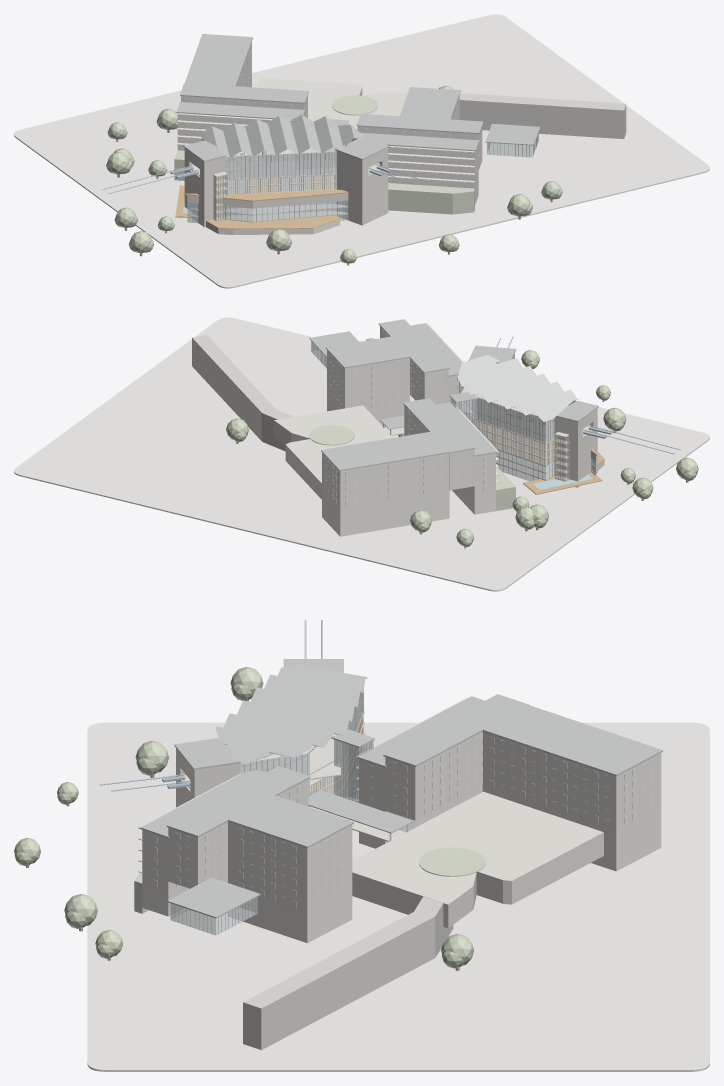
3 views of the same model, one above another, from view 1: azimuth 30°, elevation 25°; view 2: azimuth 150°, elevation 25°; view 3: azimuth 270°, elevation 25° (orthographic). The views are drawn at different scales.
Visible parts, largest first — view 1: SITE|基地底板|7, RF|金屬屋面|14, B2|清水混凝土|10, SITE|道路鋪面|4, SITE|樹冠|6, SITE|草地|3, 2F|石材鋪面|12, 4F|玻璃|9, 1F|清水混凝土|10, 2F|玻璃|9, SITE|木構|1, 4F|清水混凝土|10 (+26 smaller); view 2: SITE|基地底板|7, RF|金屬屋面|14, B2|米白塗裝|0, SITE|道路鋪面|4, SITE|樹冠|6, B2|清水混凝土|10, 2F|石材鋪面|12, 5F|樓板|17, 4F|樓板|17, 4F|玻璃|9, 6F|樓板|17, 3F|樓板|17 (+28 smaller); view 3: SITE|基地底板|7, RF|金屬屋面|14, 2F|石材鋪面|12, SITE|道路鋪面|4, B2|米白塗裝|0, B2|清水混凝土|10, SITE|樹冠|6, 5F|樓板|17, 4F|樓板|17, 3F|樓板|17, 2F|樓板|17, 6F|樓板|17 (+20 smaller).
Boxes of the visible parts, x1,y1,x2,y2 form: SITE|基地底板|7: [14, 14, 709, 288]; RF|金屬屋面|14: [176, 34, 540, 161]; B2|清水混凝土|10: [184, 88, 388, 227]; SITE|道路鋪面|4: [459, 93, 626, 138]; SITE|樹冠|6: [106, 86, 562, 263]; SITE|草地|3: [174, 95, 474, 214]; 2F|石材鋪面|12: [256, 78, 407, 129]; 4F|玻璃|9: [202, 138, 357, 183]; 1F|清水混凝土|10: [187, 182, 348, 208]; 2F|玻璃|9: [213, 133, 538, 198]; SITE|木構|1: [175, 185, 339, 229]; 4F|清水混凝土|10: [213, 150, 336, 184]; SITE|基地底板|7: [14, 317, 709, 591]; RF|金屬屋面|14: [309, 319, 598, 470]; B2|米白塗裝|0: [322, 394, 495, 536]; SITE|道路鋪面|4: [192, 335, 293, 451]; SITE|樹冠|6: [226, 338, 698, 546]; B2|清水混凝土|10: [274, 353, 597, 499]; 2F|石材鋪面|12: [274, 405, 392, 483]; 5F|樓板|17: [322, 333, 495, 485]; 4F|樓板|17: [322, 365, 495, 493]; 4F|玻璃|9: [459, 381, 575, 443]; 6F|樓板|17: [322, 326, 474, 478]; 3F|樓板|17: [322, 372, 495, 500]; SITE|基地底板|7: [87, 722, 709, 1071]; RF|金屬屋面|14: [140, 659, 662, 918]; 2F|石材鋪面|12: [352, 791, 603, 905]; SITE|道路鋪面|4: [243, 896, 453, 1050]; B2|米白塗裝|0: [142, 785, 661, 943]; B2|清水混凝土|10: [176, 748, 603, 928]; SITE|樹冠|6: [14, 667, 474, 968]; 5F|樓板|17: [142, 742, 661, 869]; 4F|樓板|17: [142, 753, 661, 879]; 3F|樓板|17: [142, 764, 661, 890]; 2F|樓板|17: [142, 775, 661, 901]; 6F|樓板|17: [168, 731, 661, 858].
Bounding box in the file's own units: 266 × 36 × 208.
